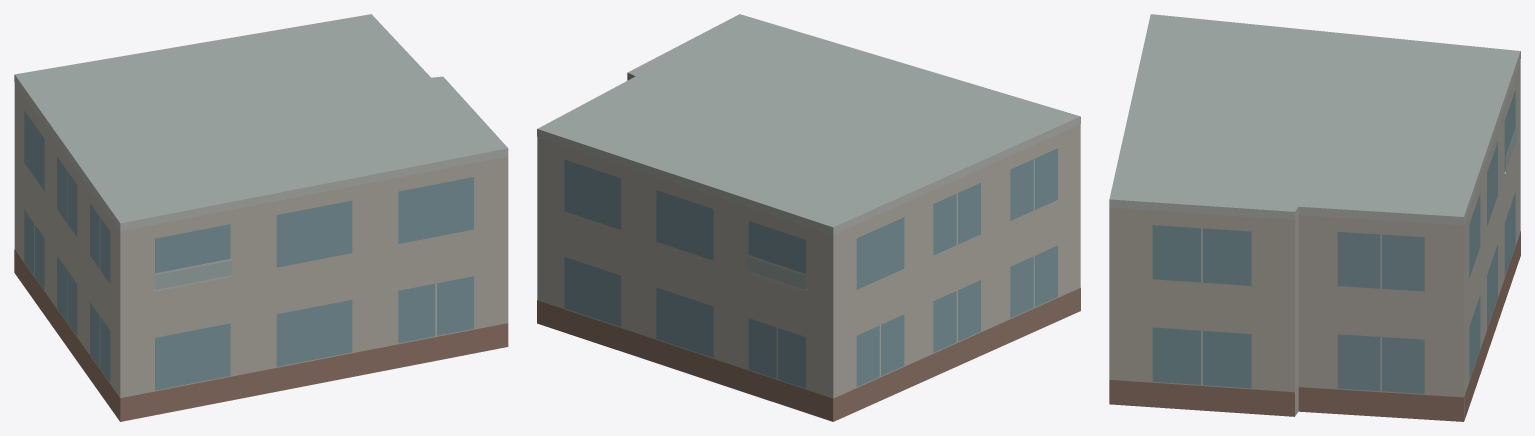
The model's file is survey-upis-32678800.glb.
The picture shows the model from 3 angles, left to right: view 1: azimuth 30°, elevation 25°; view 2: azimuth 150°, elevation 25°; view 3: azimuth 270°, elevation 25°; orthographic projection. The views are drawn at different scales.
Parts seen in each view (by area): view 1: survey-upis-32678800.tmp; view 2: survey-upis-32678800.tmp; view 3: survey-upis-32678800.tmp.
Part boxes in pixels (left/top/right/bottom): survey-upis-32678800.tmp: left=14, top=14, right=508, bottom=421; survey-upis-32678800.tmp: left=537, top=14, right=1080, bottom=421; survey-upis-32678800.tmp: left=1109, top=14, right=1520, bottom=421.
Bounding box in the file's own units: 12.97 × 6.1 × 11.11.
